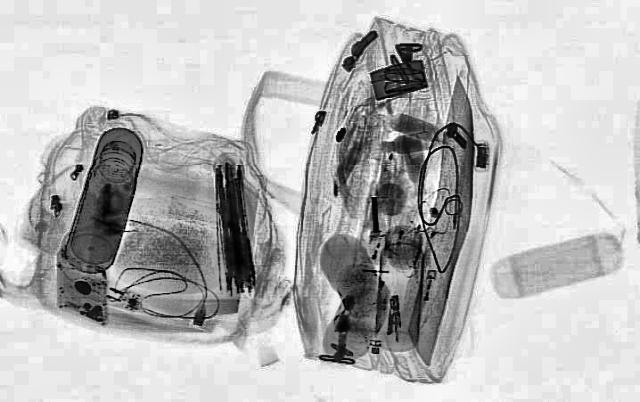Knife: (402, 74, 493, 364)
